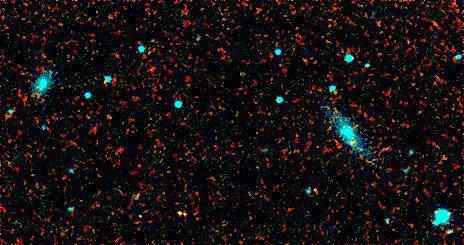star: (169, 199, 199, 229)
